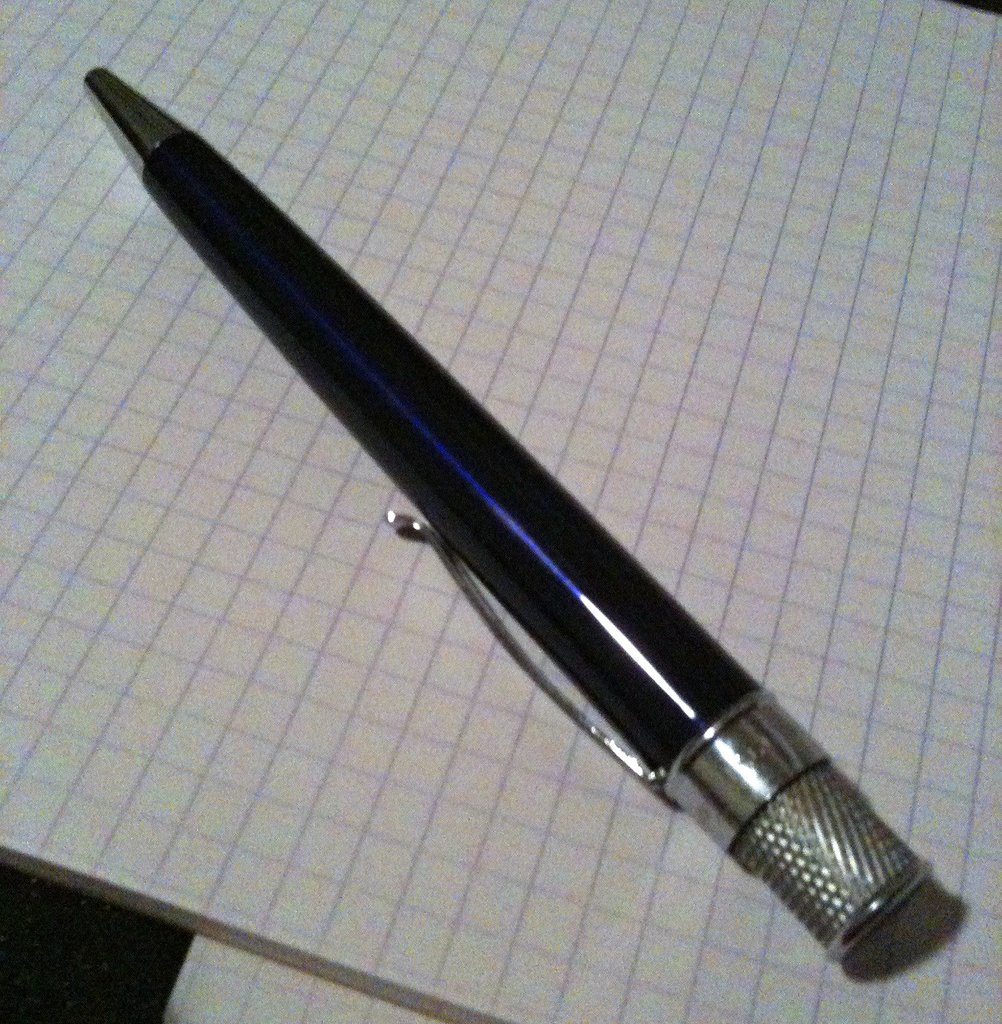Pen: (77, 61, 927, 966)
